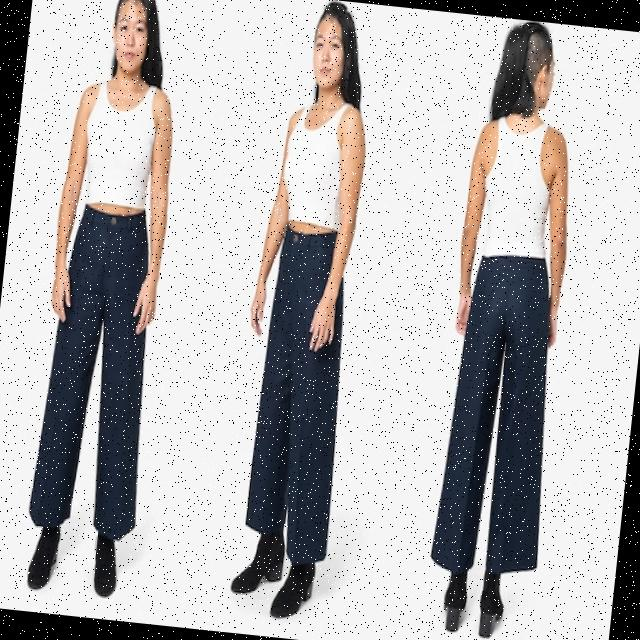Person: (418, 17, 589, 640), (18, 0, 190, 598), (217, 0, 382, 620)
